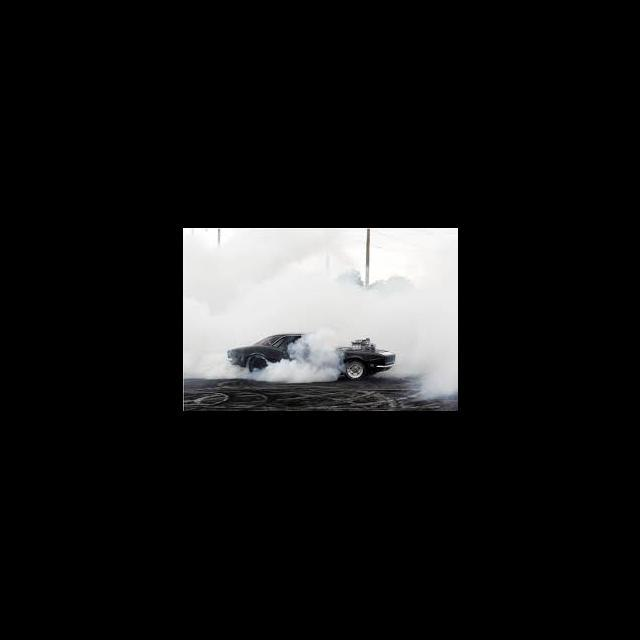Smoke: (229, 271, 389, 328), (418, 232, 458, 398), (184, 245, 226, 378), (227, 231, 321, 270), (395, 292, 418, 378), (262, 361, 336, 383), (288, 330, 338, 360), (322, 231, 354, 269), (227, 367, 260, 382), (377, 330, 393, 348)
